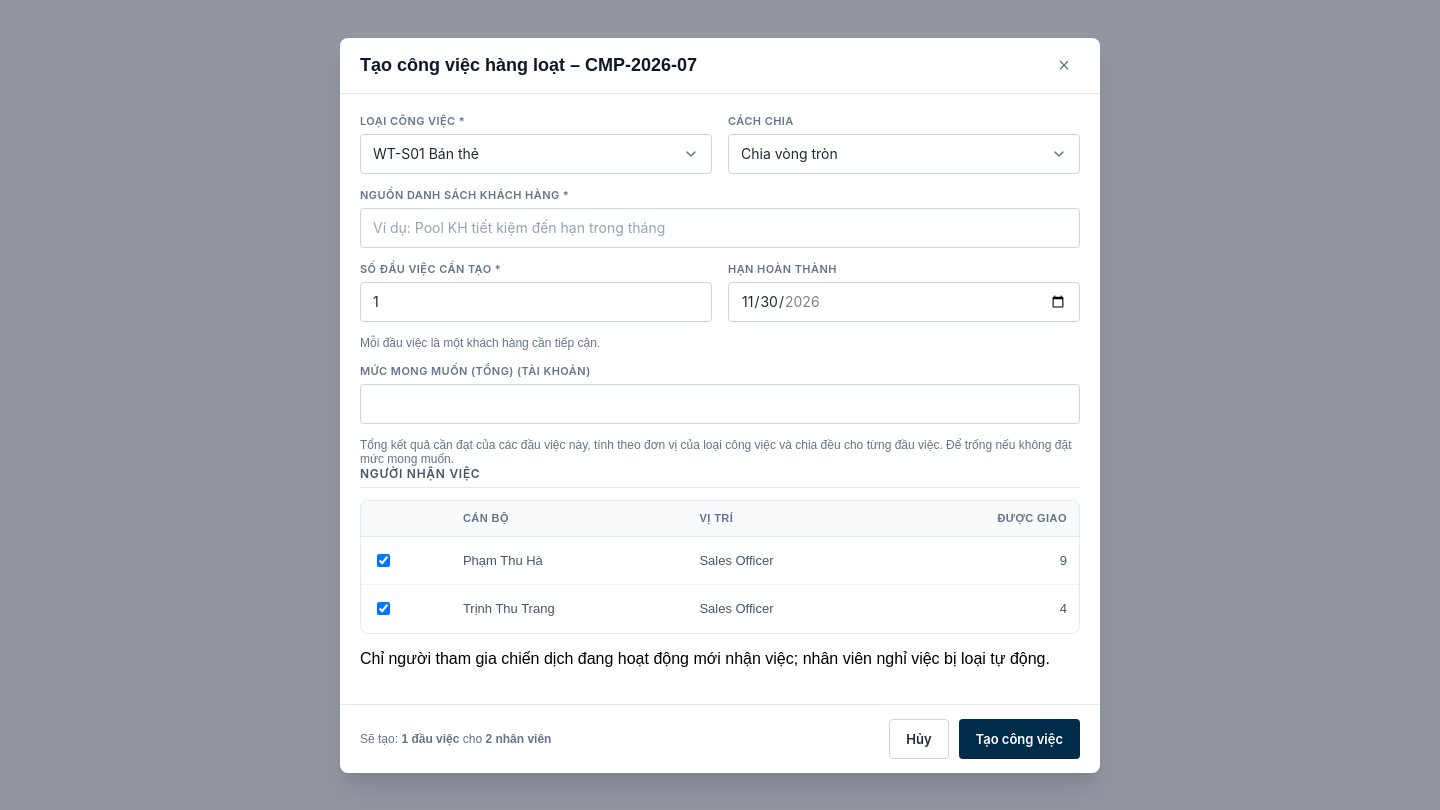
it: CampaignBatchModalComponent › names the KPI unit of the selected work type next to the expected result
Select "WT-S02 Gặp gỡ" in the dropdown with id "batch-work-type" at point(536, 154), box top-left (360, 134), bottom-right (712, 174)
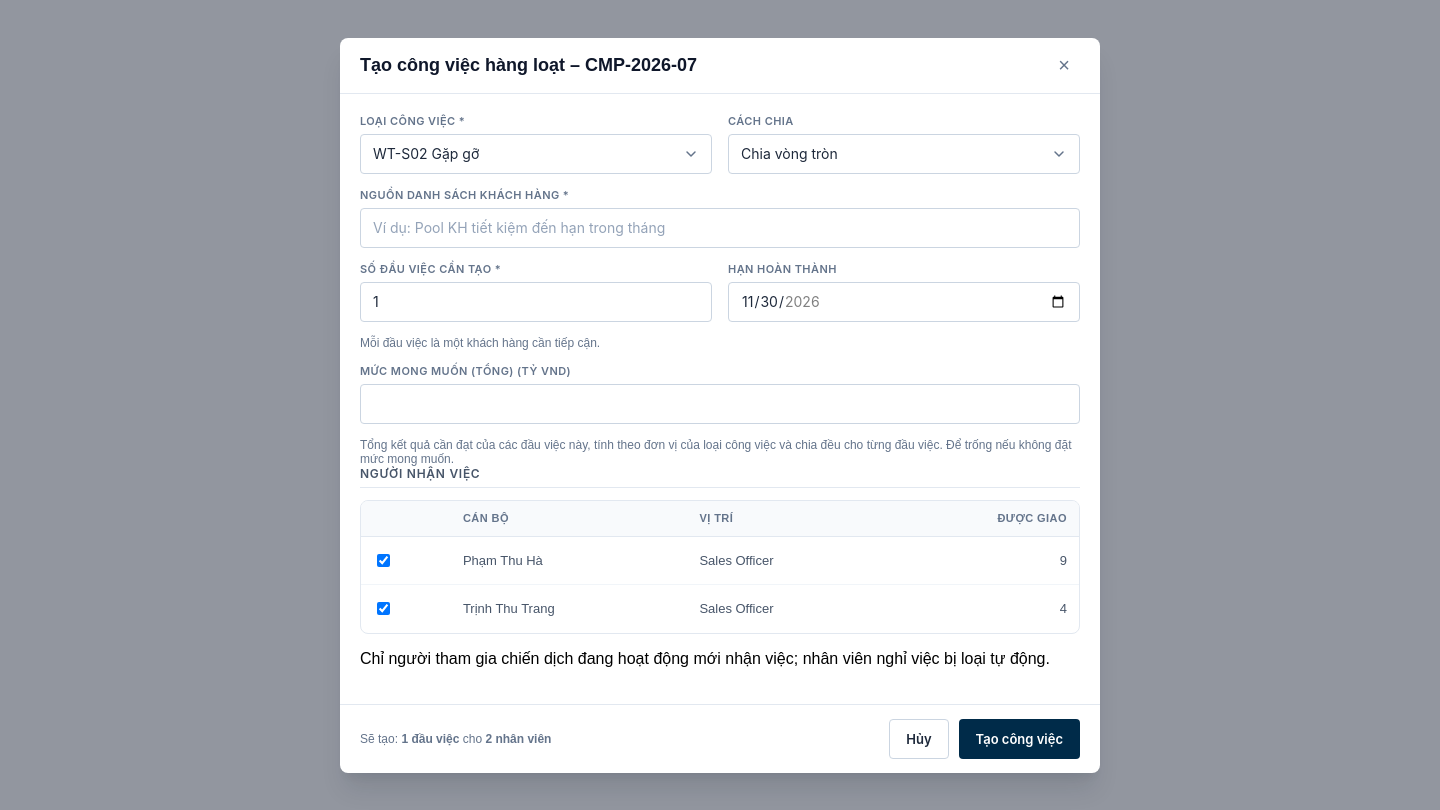
Expected: the label "Mức mong muốn (tổng) (tỷ VND)" is shown, top-left (360, 364), bottom-right (571, 378)
Select "WT-S03 Hỗ trợ" in the dropdown with id "batch-work-type" at point(536, 154), box top-left (360, 134), bottom-right (712, 174)
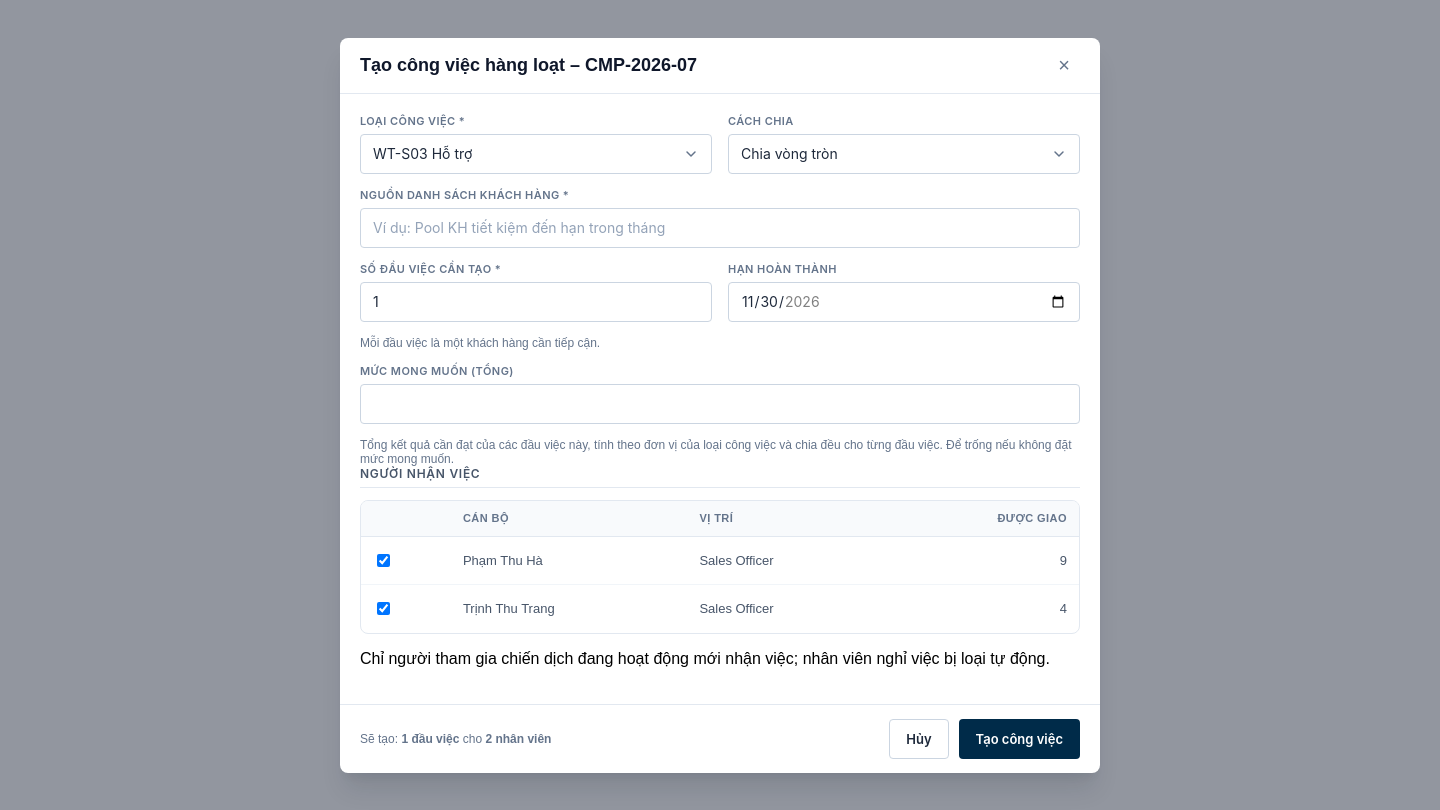
Expected: the label does not show "(tài khoản)"
Expected: the label no longer shows "(tỷ VND)"
